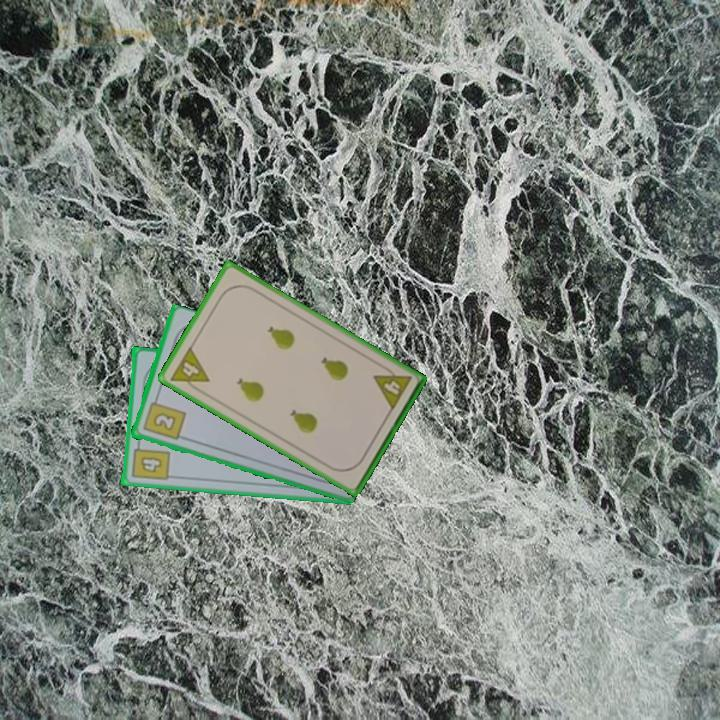2b: (139, 393, 188, 443)
4b: (128, 438, 172, 484)
4p: (167, 343, 212, 396), (370, 361, 414, 413)
